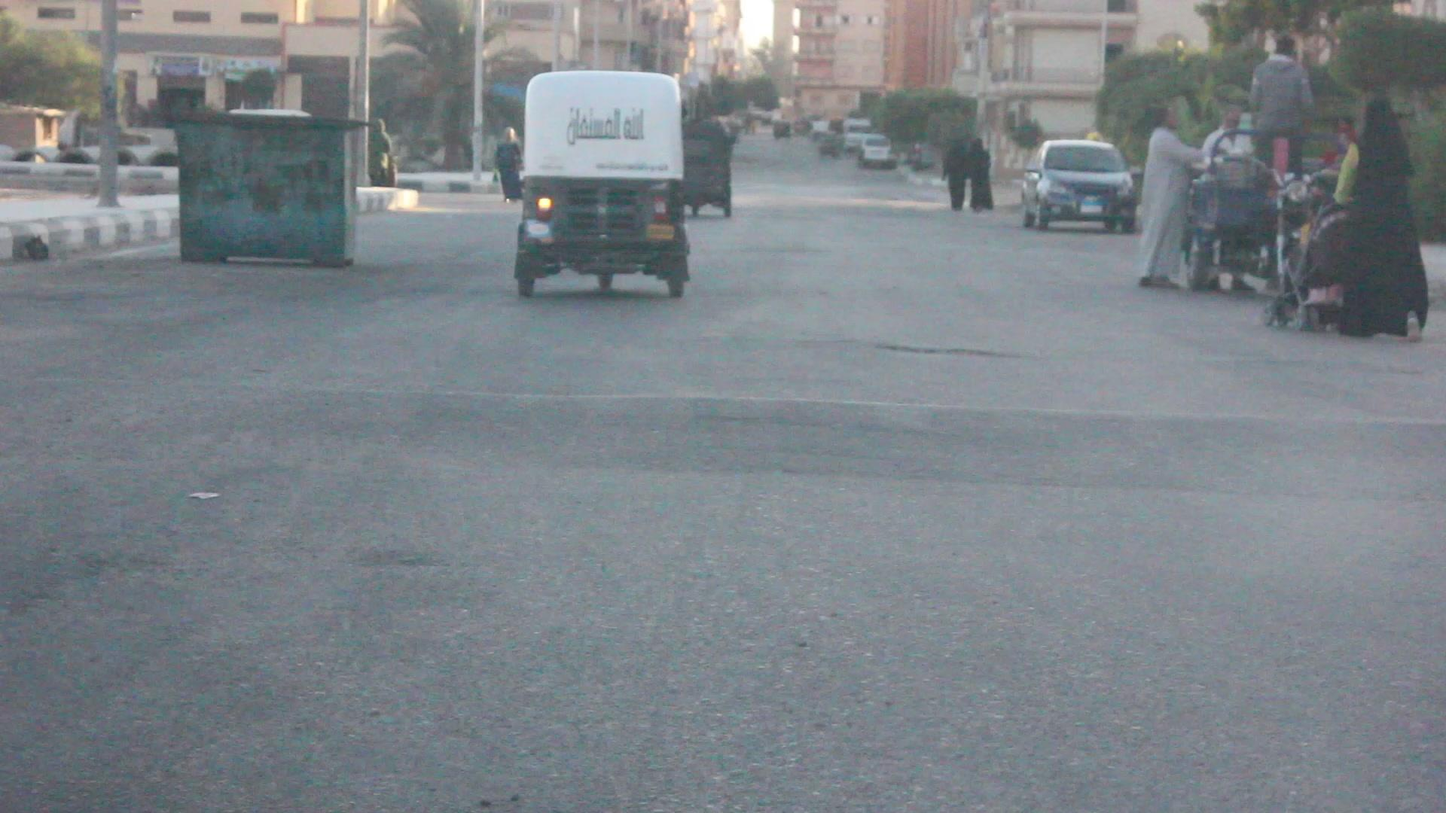Bump: (6, 380, 1446, 482)
Pothole: (868, 331, 1028, 373)
